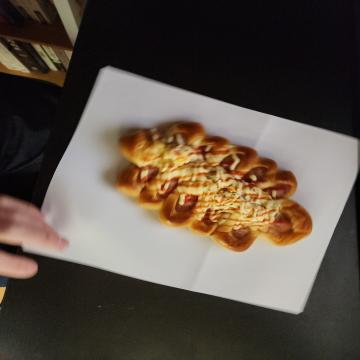pizza_bread: (120, 46, 252, 240)
